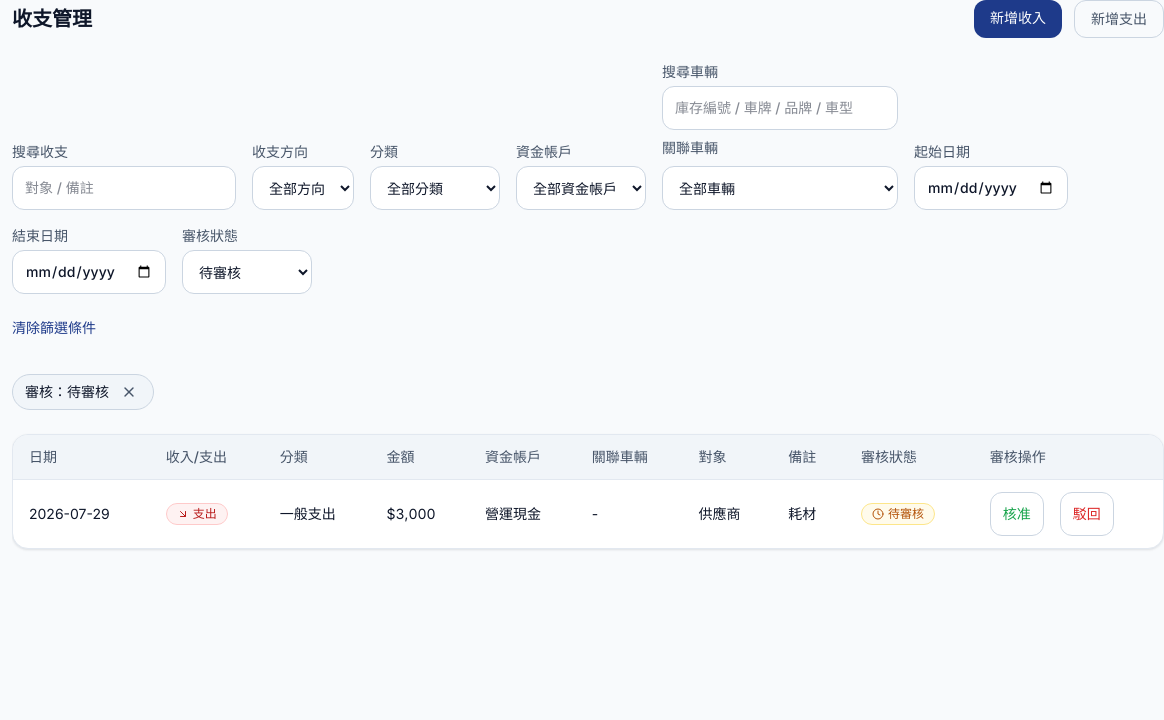
Test: Money entry presentation › shows approve 409 errors and refreshes without losing the reason
This screenshot has width=1164, height=720.
What coordinates should you click on to do the following:
click the button "核准 "
I would click on:
 (1017, 514)
Its box is top-left (990, 492), bottom-right (1044, 536).
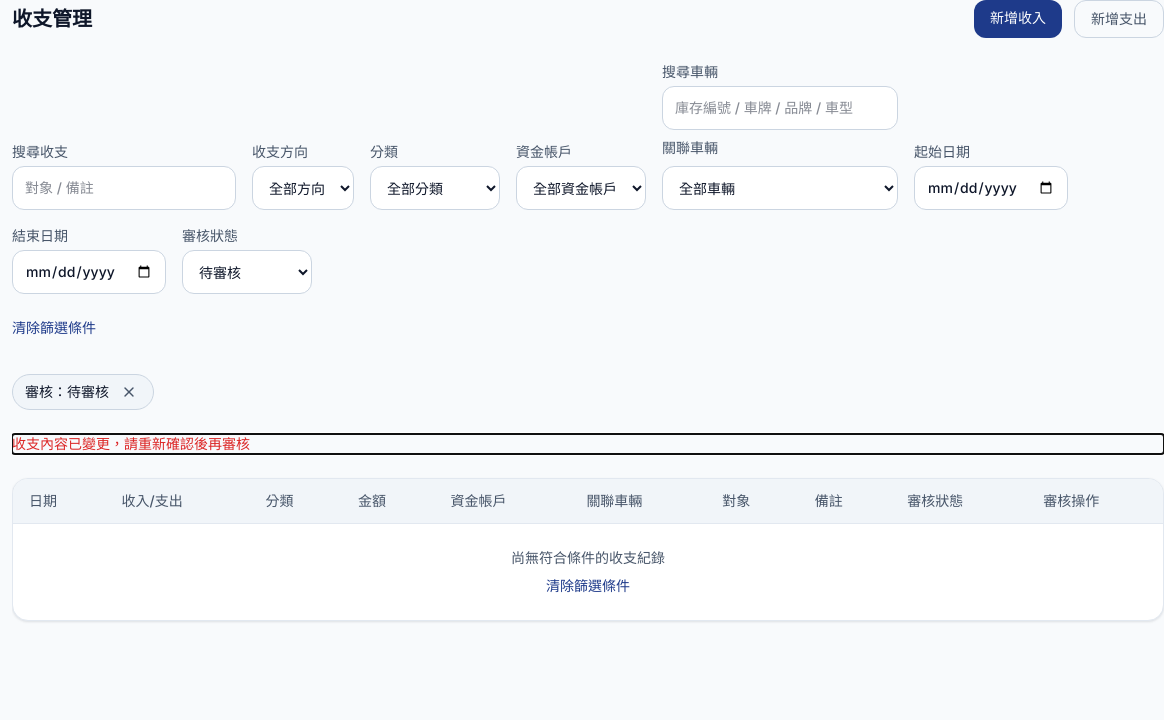
Check: the text "尚無符合條件的收支紀錄" is shown, box top-left (511, 548), bottom-right (665, 568)
Check: the message reads "收支內容已變更，請重新確認後再審核", box top-left (12, 435), bottom-right (250, 452)
